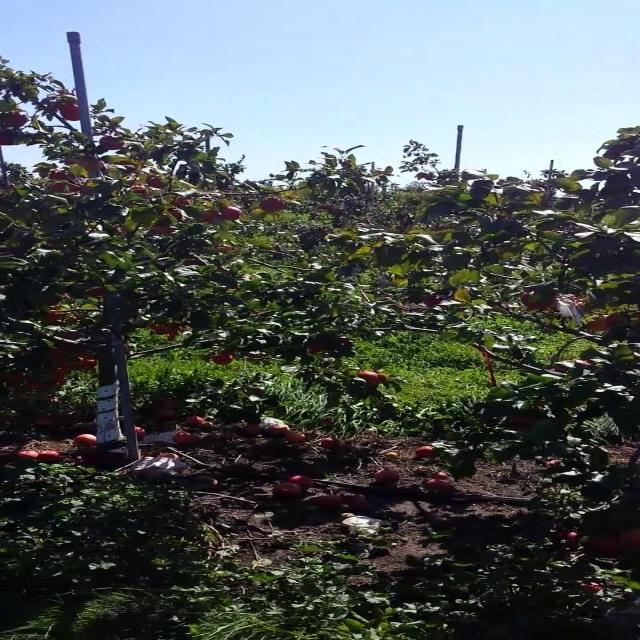apple: (518, 292, 560, 312), (589, 316, 629, 332), (554, 360, 596, 375), (148, 324, 183, 337), (99, 136, 126, 151), (77, 160, 107, 172), (6, 112, 28, 128), (49, 312, 76, 325), (156, 212, 185, 224), (362, 372, 386, 385), (77, 356, 100, 369), (63, 104, 80, 121), (63, 344, 85, 357), (56, 184, 84, 194), (212, 352, 235, 364), (220, 208, 242, 220), (262, 200, 284, 212), (6, 372, 25, 385), (56, 332, 80, 342), (511, 416, 537, 425), (84, 288, 107, 298), (49, 372, 68, 384), (28, 380, 46, 392), (426, 296, 443, 308), (49, 172, 71, 181), (205, 212, 220, 224), (49, 348, 64, 360), (156, 228, 176, 236), (177, 200, 194, 208), (148, 180, 165, 188), (312, 344, 327, 353), (134, 188, 149, 197), (220, 244, 235, 253), (340, 340, 354, 349), (170, 212, 185, 220), (6, 136, 16, 147), (184, 260, 201, 266)
